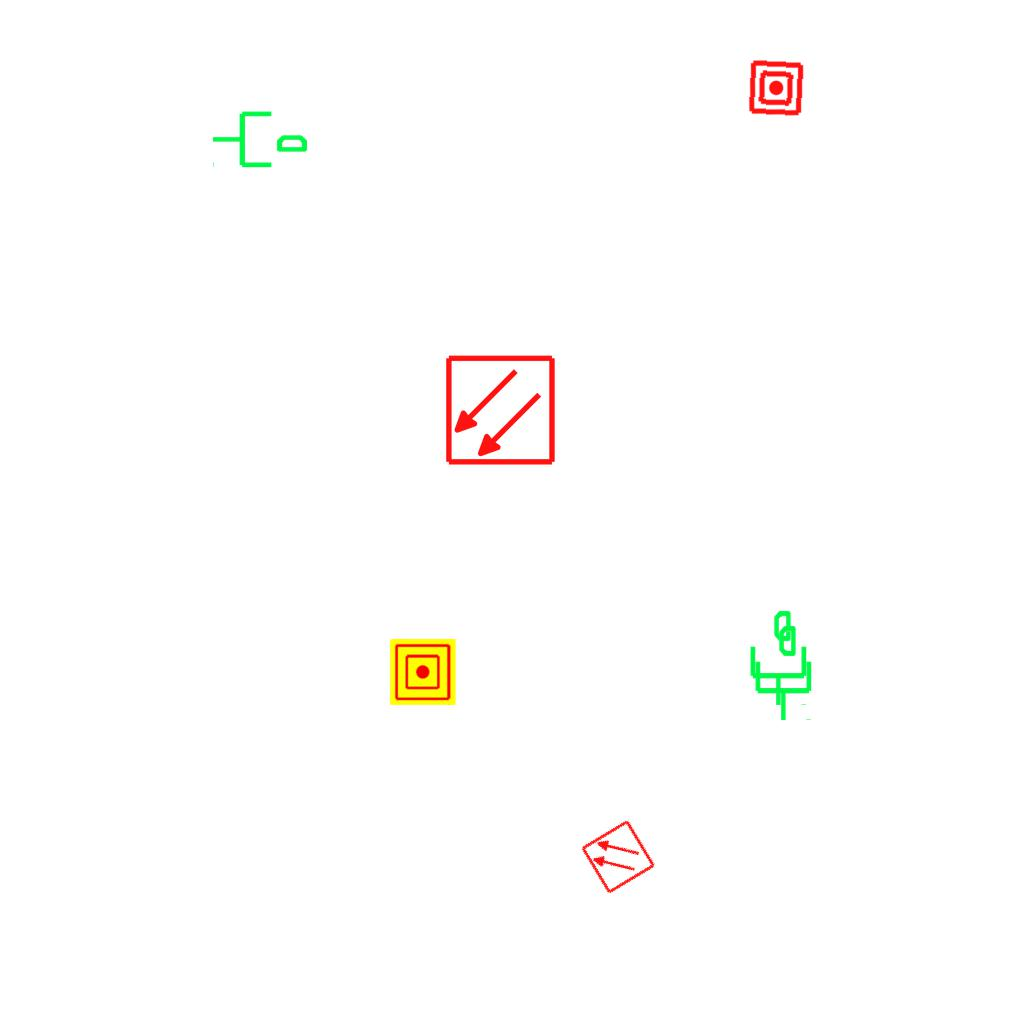Datenanschluss_einfach: (742, 608, 811, 708), (210, 103, 310, 172), (747, 623, 816, 723)
NAM-Nichtautomatischer_Melder: (390, 639, 456, 705), (746, 58, 806, 118)
RMO_Rauchmelder_optischer: (444, 354, 557, 467), (579, 818, 657, 896)
